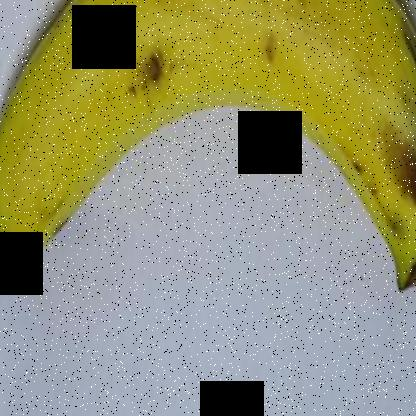freshripe: (0, 1, 415, 314)
